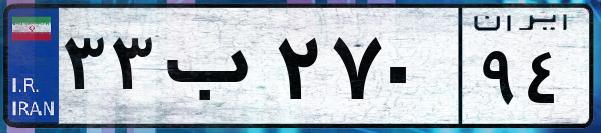0: (385, 28, 445, 110)
2: (270, 28, 330, 110)
3: (57, 26, 110, 100), (110, 28, 158, 98)
4: (525, 38, 570, 115)
7: (330, 28, 385, 110)
9: (475, 38, 525, 113)
ب: (158, 20, 270, 120)
